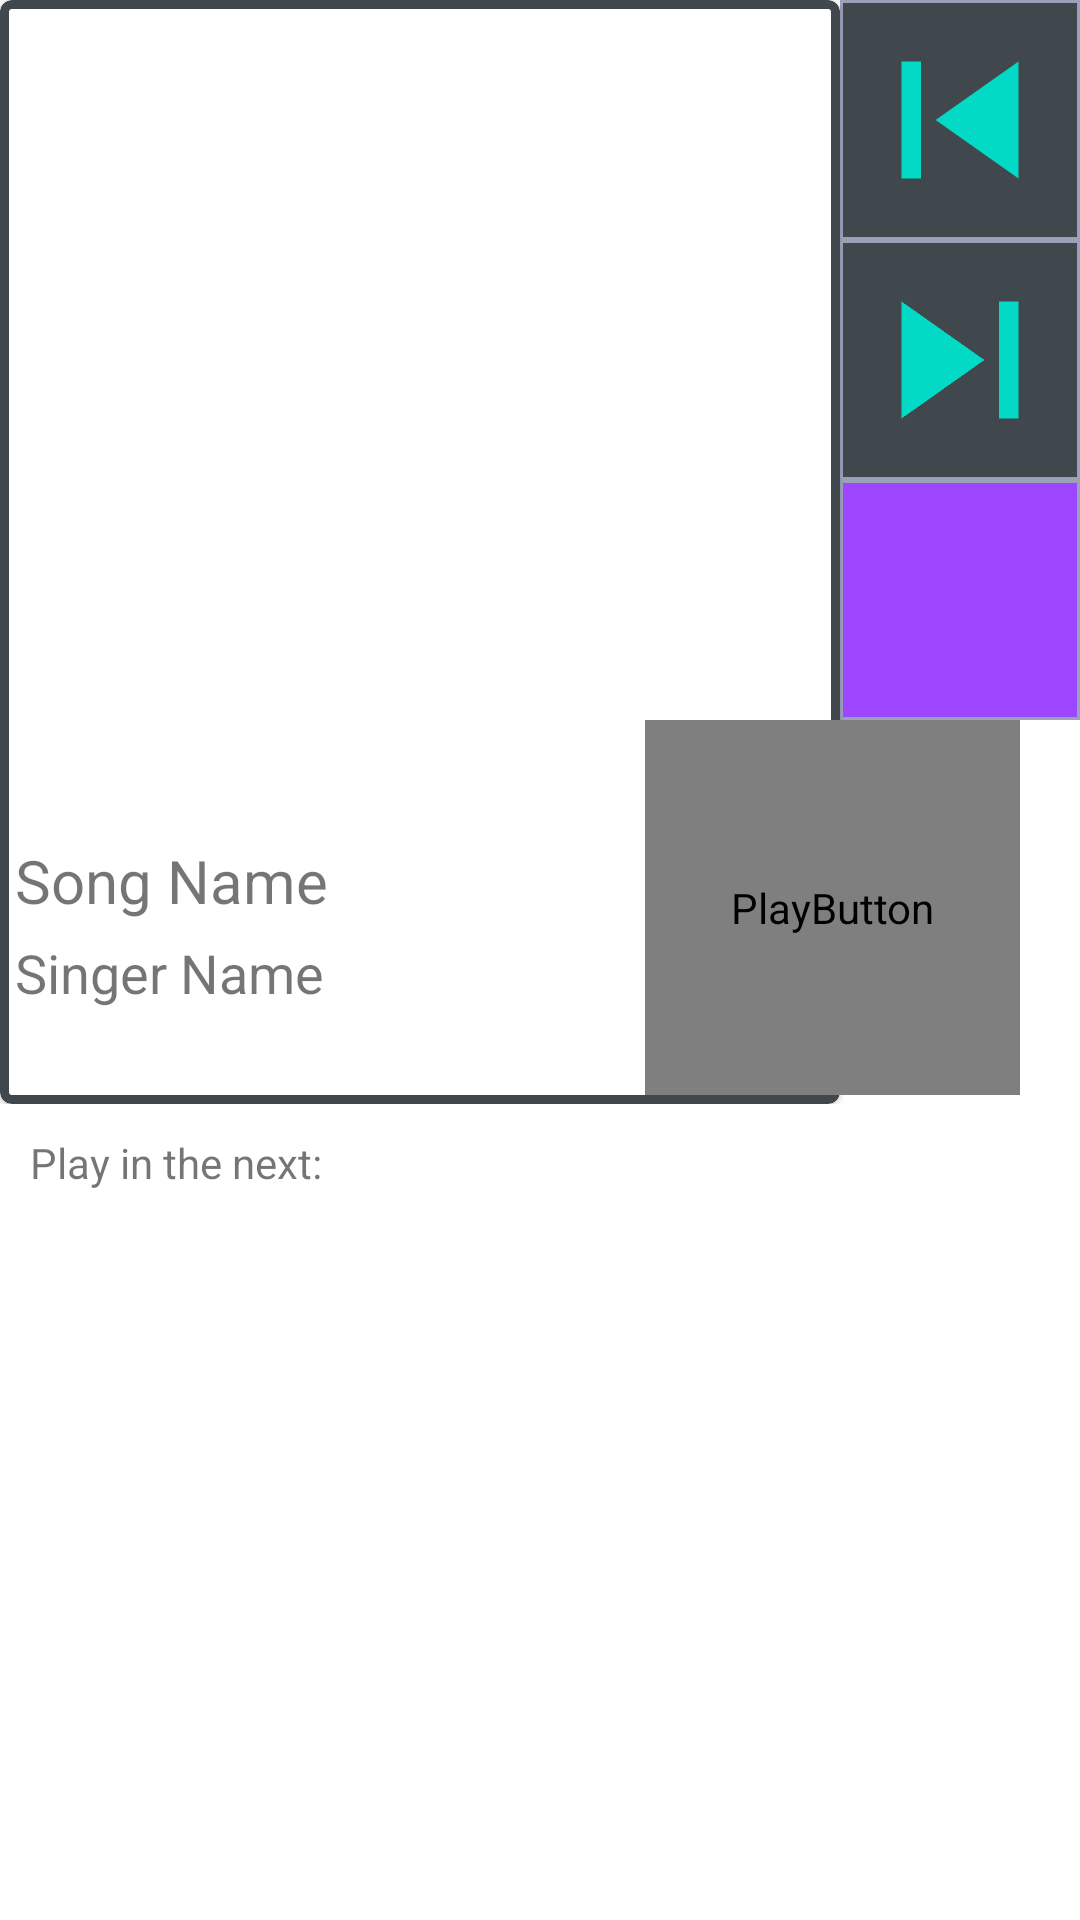

Icons on this 1080×1920 Android screen, each with the point to tap as [x,y]:
skip next: [960,360]
skip previous: [960,120]
